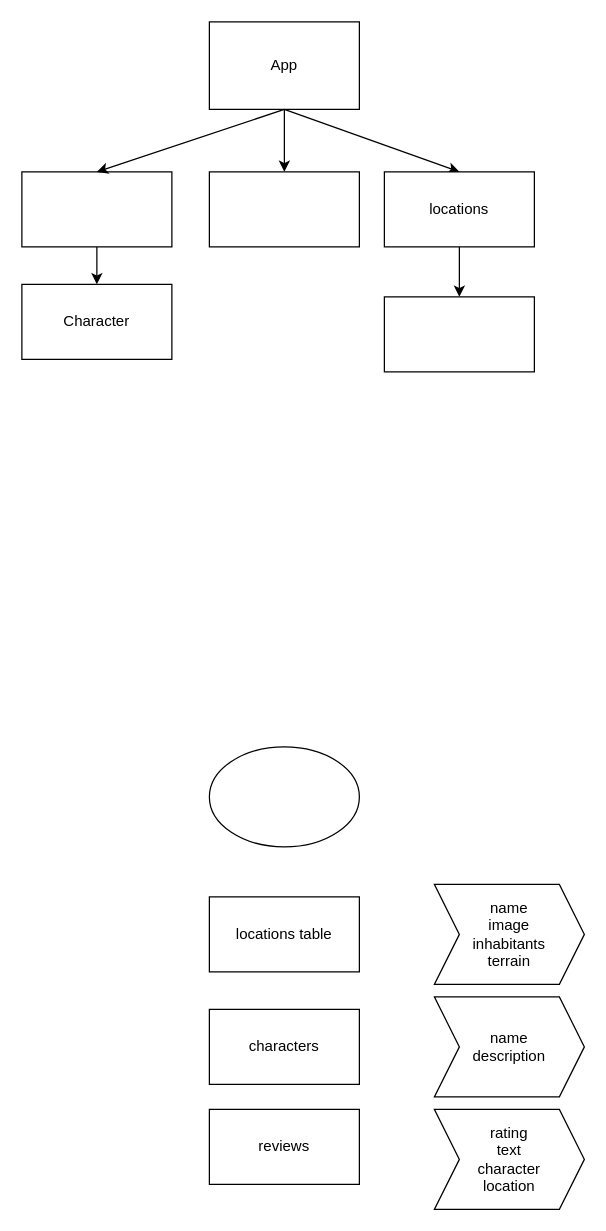
Image size: 606x1231. Some labels were removed from this diagram. Each missing label, with the centre of its shape:
"dbs" belongs at (283,796).
"Detial Container" belongs at (96,209).
"Header" belongs at (283,209).
"location" belongs at (458,334).
